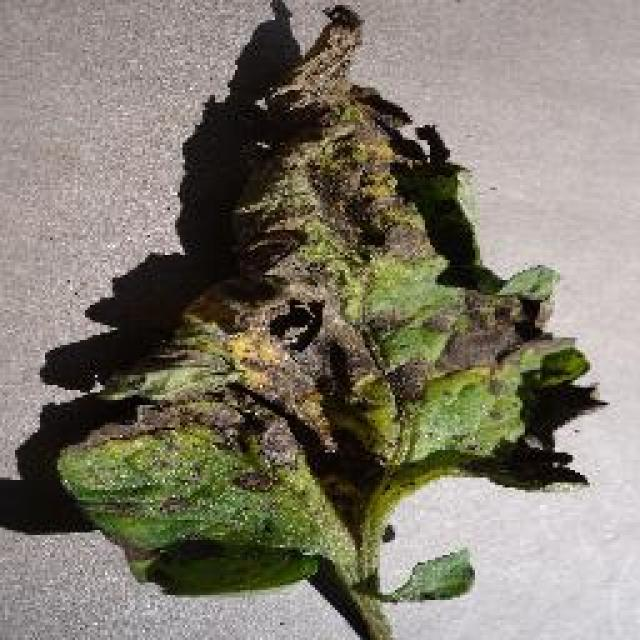Tomato_Early_Blight: (101, 56, 596, 548)
